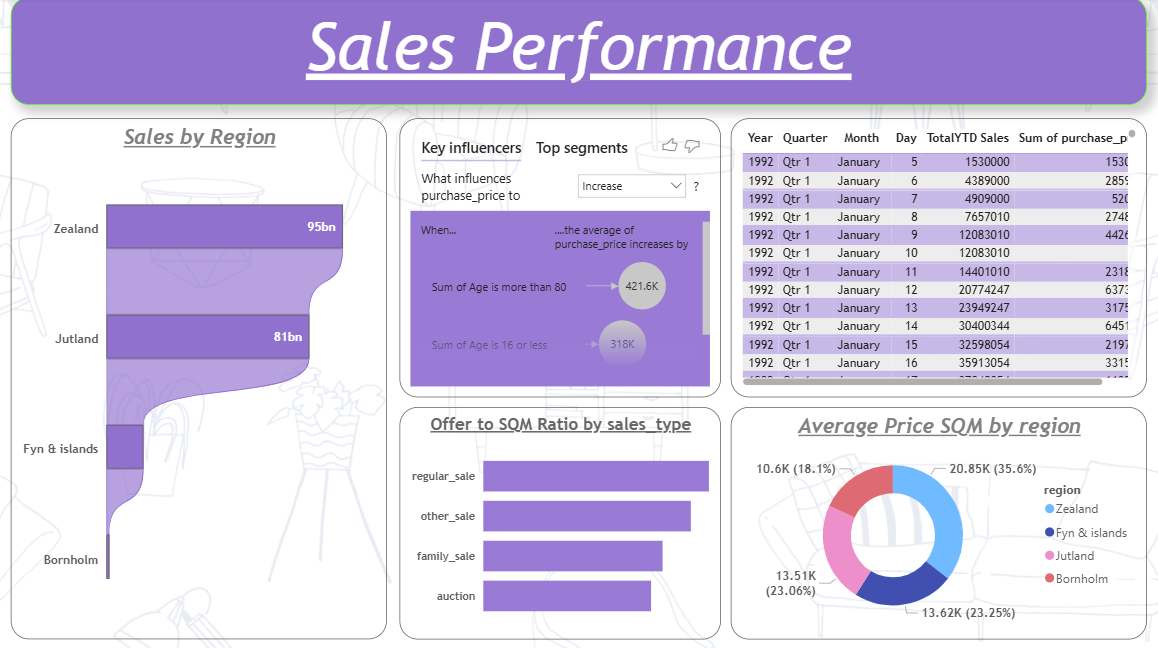

This screenshot's page, from the dashboard's own definition file:
{"tool":"powerbi","page":{"name":"Sales Performance","canvas":[1280,720],"ordinal":1},"visuals":[{"type":"textbox","box":[15.1,0,1247.3,118],"z":0},{"type":"barChart","title":"Sales by Region","fields":{"Y":["Measure 2.Sales by Region"],"Category":["Housing.region"]},"box":[15.1,133.1,413,572.2],"z":1000},{"type":"tableEx","fields":{"Values":["Housing.date.Variation.Date Hierarchy.Year","Housing.date.Variation.Date Hierarchy.Quarter","Housing.date.Variation.Date Hierarchy.Month","Housing.date.Variation.Date Hierarchy.Day","Measure 2.TotalYTD Sales","Sum(Housing.purchase_price)"]},"box":[805.5,133.1,456.9,306],"z":2000},{"type":"donutChart","fields":{"Y":["Measure 2.Average Price SQM"],"Category":["Housing.region"]},"box":[805.5,450.1,456.9,255.2],"z":3000},{"type":"keyDriversVisual","fields":{"Target":["Housing.purchase_price"],"ExplainBy":["Sum(Housing.Age)"]},"box":[441.9,133.1,352.7,306],"z":4000},{"type":"barChart","fields":{"Y":["Measure 2.Offer to SQM Ratio"],"Category":["Housing.sales_type"]},"box":[441.9,450.1,352.7,255.2],"z":5000}]}

Visuals, with their boxes in screenshot pixels (x1, y1, x2, y2), scaled from the page's 1280x720 canvas onto the 1158x648 screenshot:
textbox: Rect(14, 0, 1142, 106)
"Sales by Region" barChart: Rect(14, 120, 387, 635)
tableEx - Housing.date.Variation.Date Hierarchy.Year x Housing.date.Variation.Date Hierarchy.Quarter: Rect(729, 120, 1142, 395)
donutChart - Measure 2.Average Price SQM x Housing.region: Rect(729, 405, 1142, 635)
keyDriversVisual - Housing.purchase_price x Sum(Housing.Age): Rect(400, 120, 719, 395)
barChart - Measure 2.Offer to SQM Ratio x Housing.sales_type: Rect(400, 405, 719, 635)
